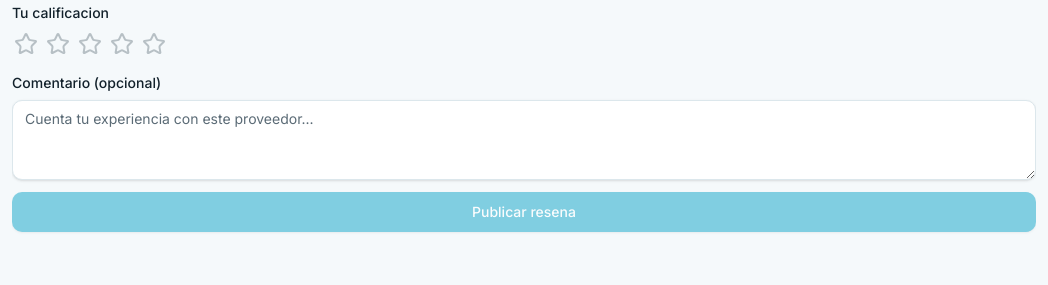
ReviewForm › muestra el mensaje de error cuando la API falla
The image size is (1048, 285).
What coordinates should you click on to do the following:
click the radio button named "5 estrellas"
I would click on:
 (154, 44)
Its box is [140, 30, 168, 58].
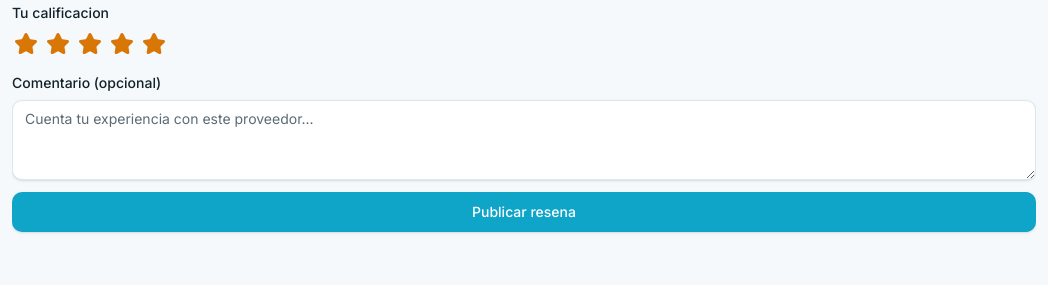
What coordinates should you click on to do the following:
click the button "Publicar resena"
I would click on:
 (524, 212)
Its box is [12, 192, 1036, 232].
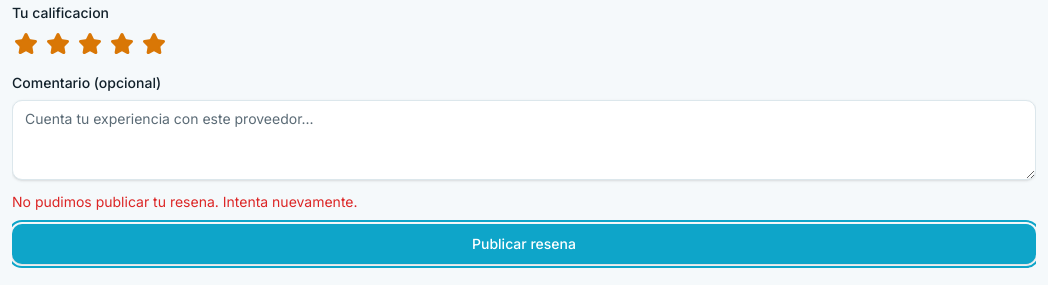
Expected: the text "No pudimos publicar tu resena. Intenta nuevamente." is shown, [12, 193, 358, 210]
